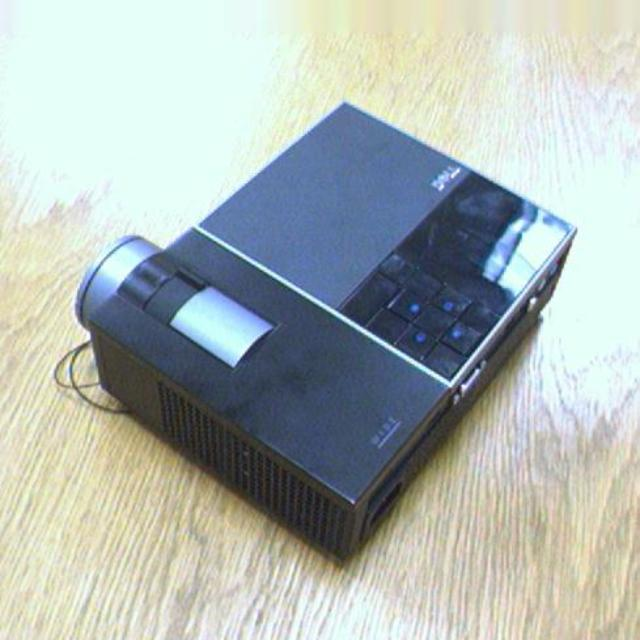Projector: (73, 101, 575, 565)
